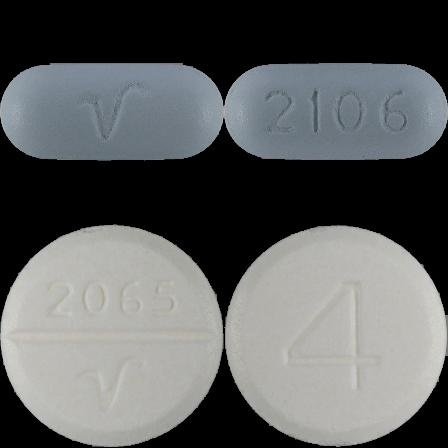0603-2217: (0, 0, 224, 224)
